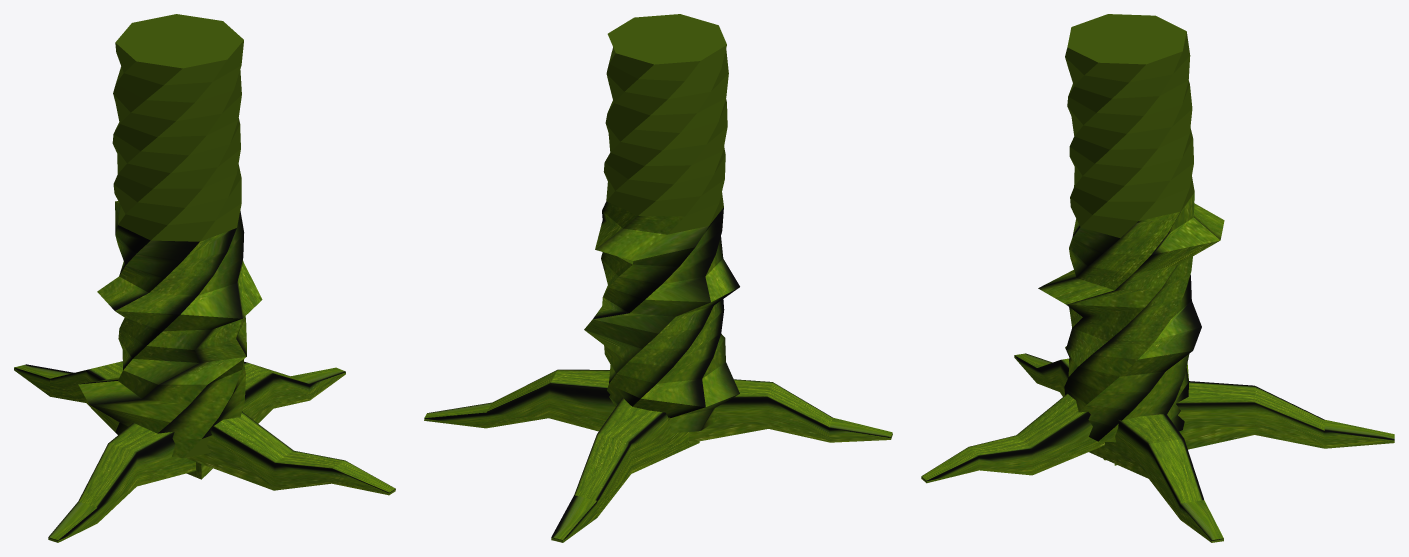
File: Plant.fbx
3 renders of one model, left to right at view 1: azimuth 30°, elevation 25°; view 2: azimuth 150°, elevation 25°; view 3: azimuth 270°, elevation 25°, orthographic. The views are drawn at different scales.
Visible parts, largest first — view 1: Circle.035, Cube.173, Cube.175, Cube.174, Cube.172; view 2: Circle.035, Cube.172, Cube.174, Cube.175; view 3: Circle.035, Cube.172, Cube.174, Cube.173, Cube.175.
Part boxes in pixels (left/top/right/bottom): Circle.035: left=78, top=14, right=262, bottom=458; Cube.173: left=187, top=412, right=395, bottom=495; Cube.175: left=48, top=423, right=196, bottom=542; Cube.174: left=186, top=361, right=345, bottom=479; Cube.172: left=14, top=361, right=122, bottom=434; Circle.035: left=584, top=14, right=739, bottom=433; Cube.172: left=551, top=397, right=699, bottom=542; Cube.174: left=424, top=369, right=615, bottom=431; Cube.175: left=689, top=379, right=892, bottom=443; Circle.035: left=1038, top=14, right=1224, bottom=442; Cube.172: left=1114, top=381, right=1394, bottom=465; Cube.174: left=1089, top=414, right=1223, bottom=542; Cube.173: left=921, top=393, right=1104, bottom=483; Cube.175: left=1014, top=353, right=1105, bottom=460.
Bounding box in the file's own units: 61.05 × 62.81 × 65.49.
